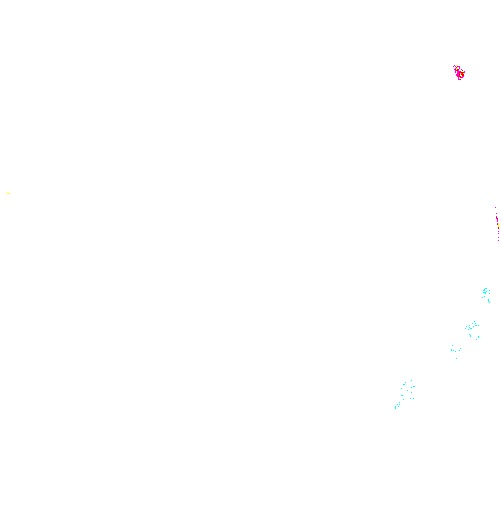Ringworm: (93, 79, 449, 344)
